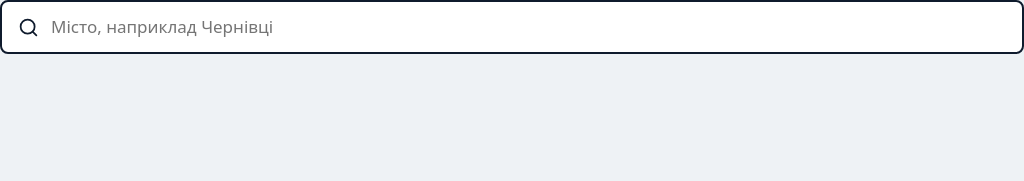
CitySearch › searches after a pause and selects with the keyboard
In the dropdown: (528, 27) [49,14,1006,40], type "Чернів"
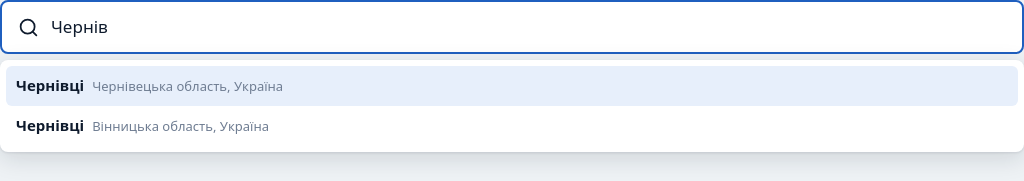
Check: the number of options is 2, box [6,66,1018,106]; [16,115,269,135]
Press Arrowdown Enter
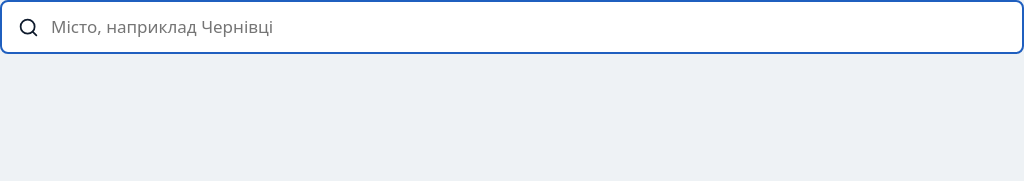
Check: the dropdown is empty, box [49,14,1006,40]
